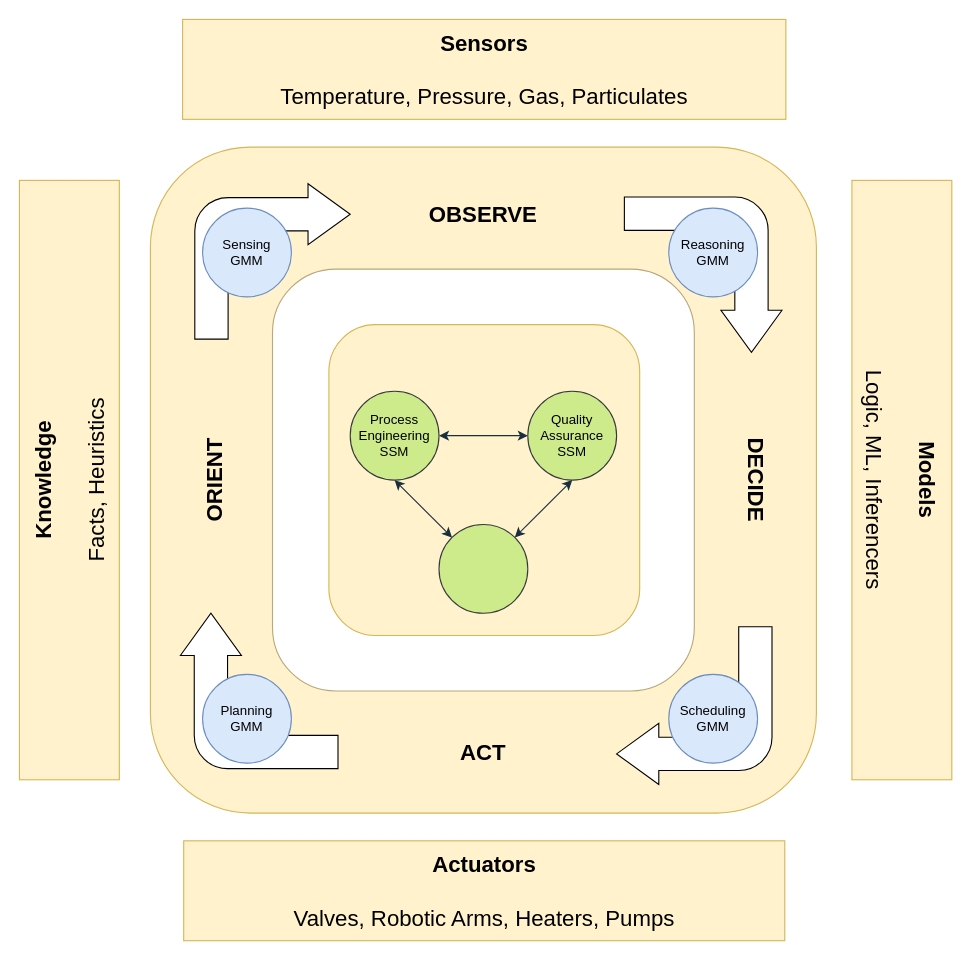
This 972x960 diagram has some shape labels left out. Here are the shapes that lost their labels. From the top down, the box of each, then its label:
(328, 324, 640, 635): Small Specialist Models
(438, 523, 528, 613): Maintenance SSM
